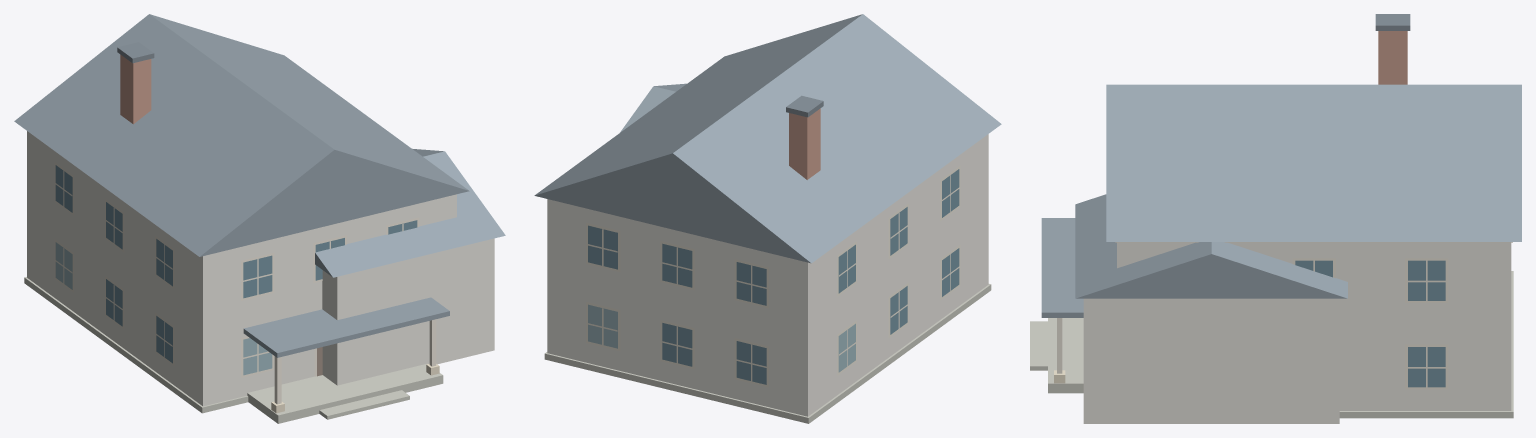
Rendered from house-crossgable-white.glb.
3 renders of one model, left to right at view 1: azimuth 30°, elevation 25°; view 2: azimuth 150°, elevation 25°; view 3: azimuth 270°, elevation 25°, orthographic. The views are drawn at different scales.
Parts seen in each view (by area): view 1: house-crossgable-white; view 2: house-crossgable-white; view 3: house-crossgable-white.
Boxes of the visible parts, <box> form: house-crossgable-white: <box>14,14,505,423</box>; house-crossgable-white: <box>534,14,1001,423</box>; house-crossgable-white: <box>1030,14,1521,423</box>.
Bounding box in the file's own units: 11.52 × 9.72 × 14.98.
